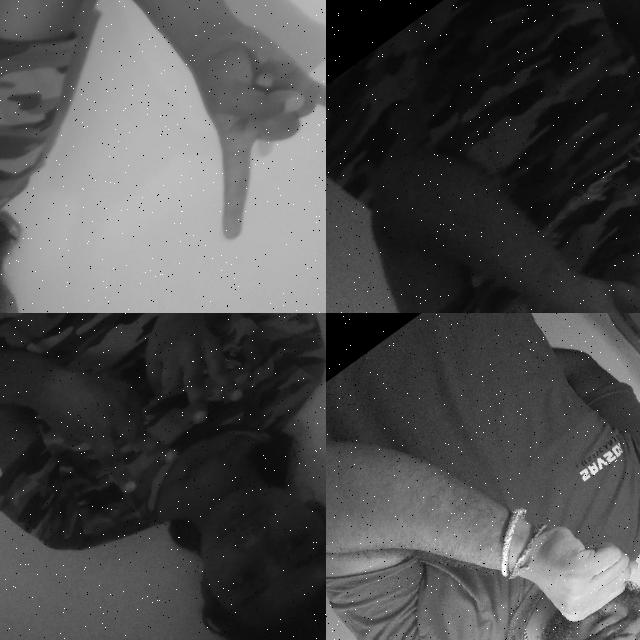Corna: (112, 0, 326, 256)
Fist Mouth: (431, 467, 640, 640), (468, 162, 640, 313)
Reversed Victory: (9, 318, 191, 514), (93, 313, 281, 449)
